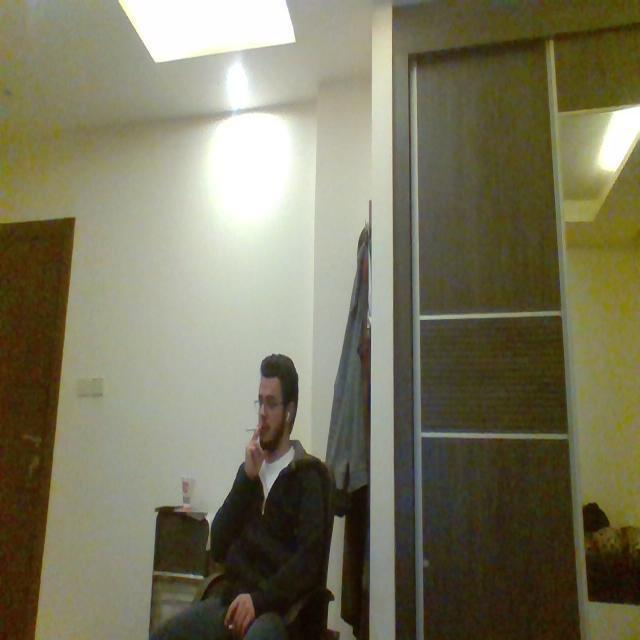smoking: (241, 419, 270, 437)
